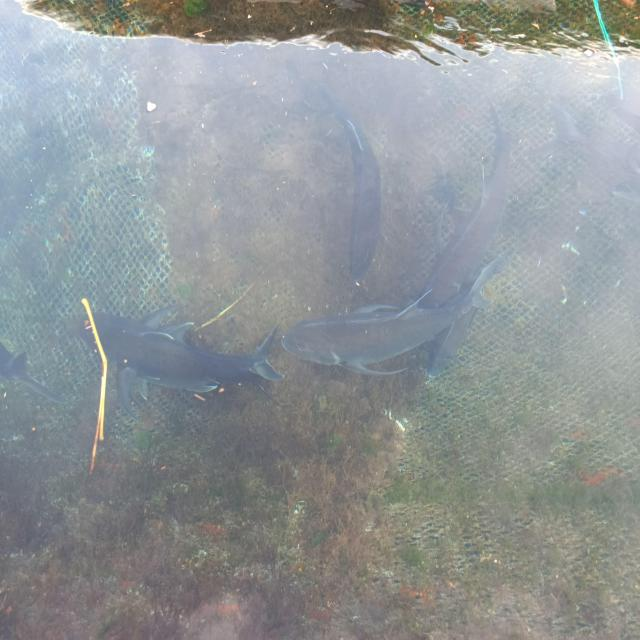ikan: (280, 246, 515, 378), (82, 298, 284, 423)
